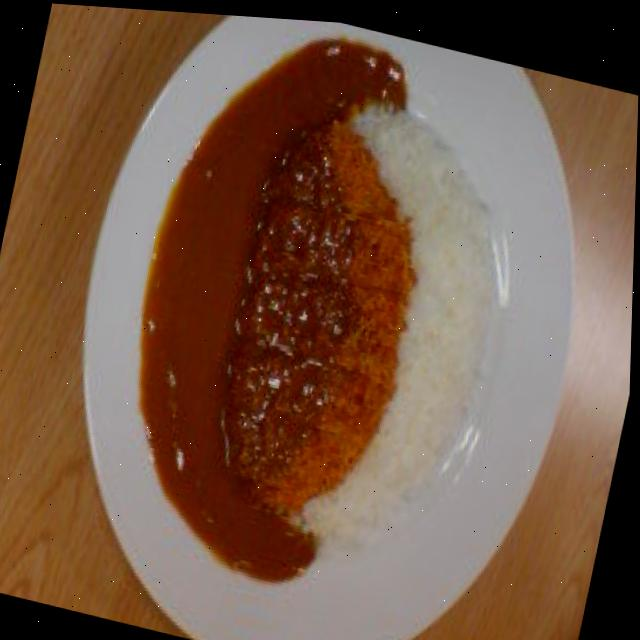猪肉菜式: (81, 16, 512, 615)
